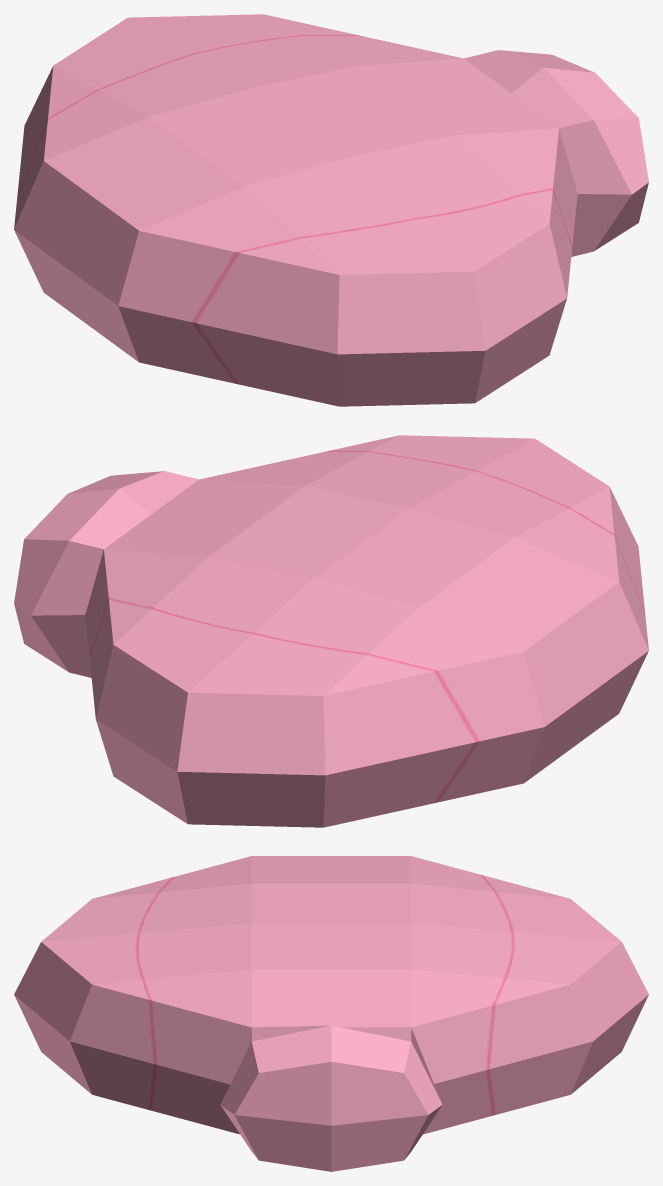
File: shell1.fbx
The picture shows the model from 3 angles, top to bottom: view 1: azimuth 30°, elevation 25°; view 2: azimuth 150°, elevation 25°; view 3: azimuth 270°, elevation 25°; orthographic projection. The views are drawn at different scales.
Parts seen in each view (by area): view 1: Cube; view 2: Cube; view 3: Cube.
Part boxes in pixels (x1=…): Cube: x1=14, y1=14, x2=648, y2=406; Cube: x1=14, y1=435, x2=648, y2=827; Cube: x1=14, y1=856, x2=648, y2=1171.
Size of the model in its own units: 313 by 95.57 by 374.
Materials: 1 (1 with a texture image).
